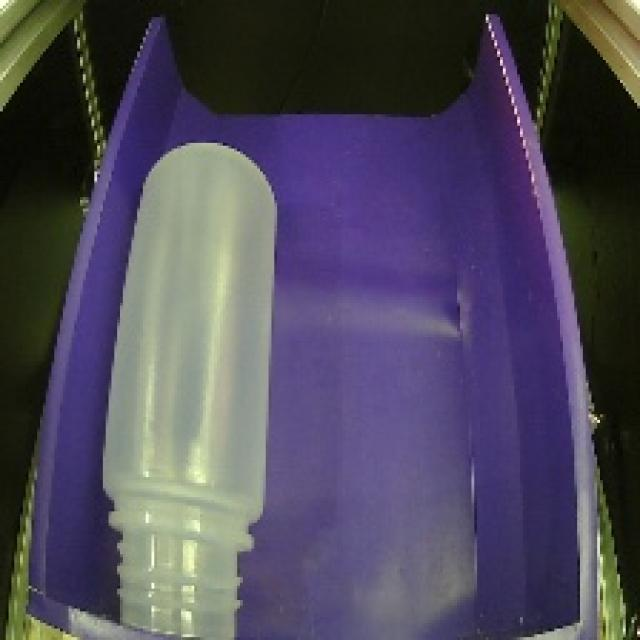plastic: (77, 120, 300, 640)
